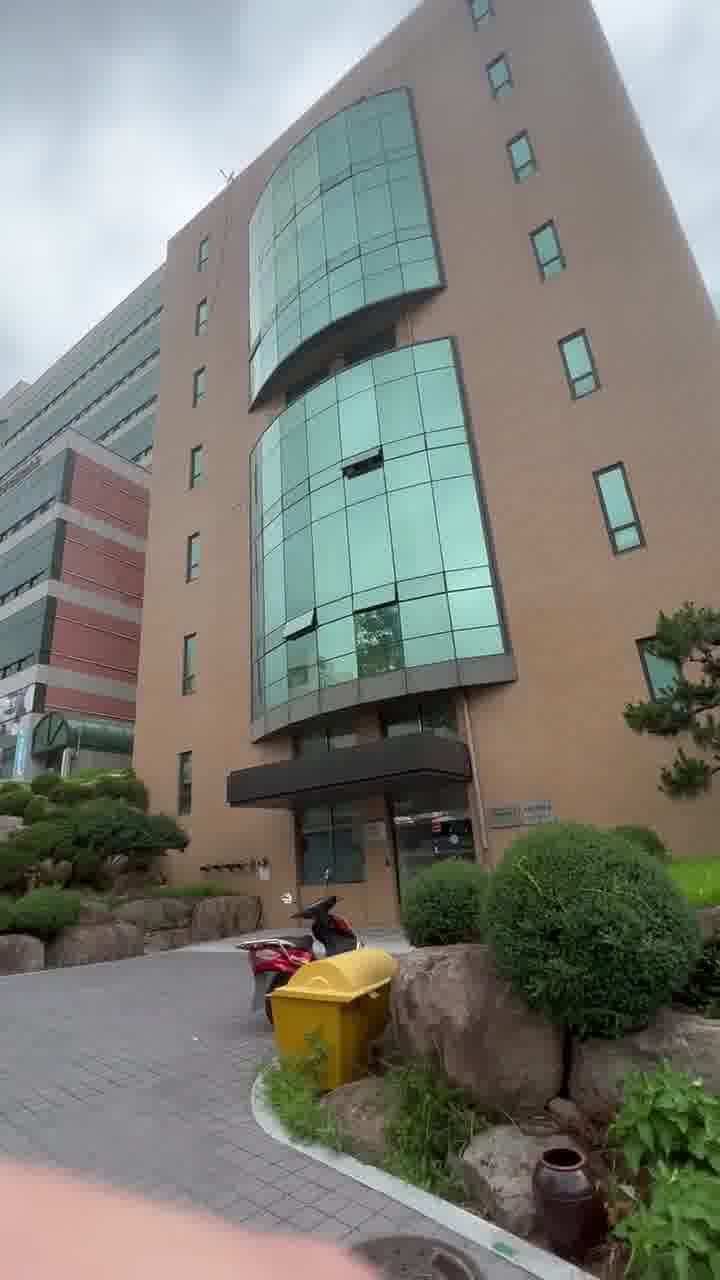low: (130, 92, 554, 824)
